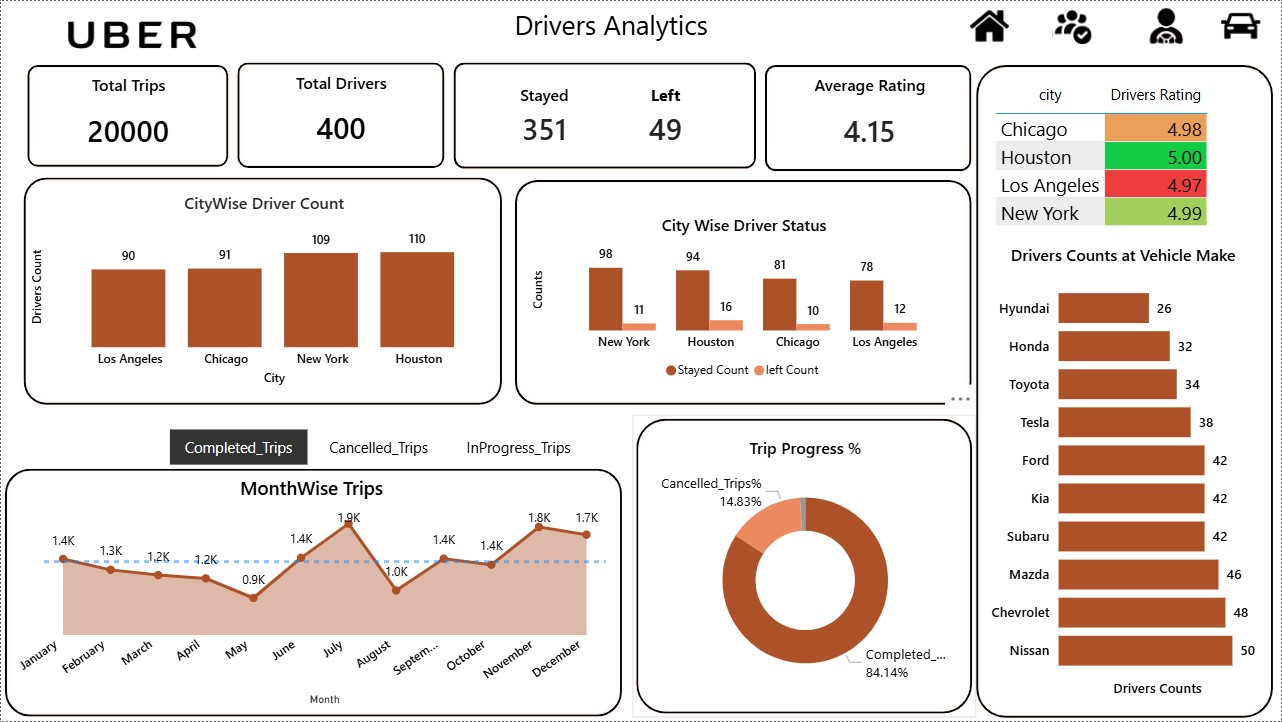

This screenshot's page, from the dashboard's own definition file:
{"tool":"powerbi","page":{"name":"Drivers","canvas":[1280,720],"ordinal":2},"visuals":[{"type":"textbox","box":[214.7,0,790.2,48.3],"z":0},{"type":"actionButton","box":[951.7,1.4,74.3,47.3],"z":0,"group":"g13"},{"type":"shape","box":[232.7,57.9,214.7,113.4],"z":0,"group":"g4"},{"type":"group","id":"g1","title":"Group 2","box":[449.7,57.9,310.3,114.1],"z":0,"group":"g5"},{"type":"shape","box":[449.7,57.9,310.3,114.1],"z":0,"group":"g1"},{"type":"shape","box":[22.9,60.7,208.7,109.8],"z":0,"group":"g7"},{"type":"group","id":"g2","title":"Group 2","box":[760,60.7,214.3,114.1],"z":0,"group":"g6"},{"type":"shape","box":[760,60.7,214.3,114.1],"z":0,"group":"g2"},{"type":"cardVisual","title":"Drivers Stayed &left","fields":{"Data":["cancellations.driver_Stayed_Count","cancellations.driver_Stayed_left"]},"box":[470.6,70.1,269.9,89.6],"z":0,"group":"g20"},{"type":"cardVisual","title":"Total Drivers","fields":{"Data":["riders.Total_Drivers"]},"box":[245.2,70.4,190.6,87.7],"z":0,"group":"g19"},{"type":"cardVisual","title":"Average Rating","fields":{"Data":["cancellations.Avgrage_Rating"]},"box":[774.4,73.2,187.8,89],"z":0,"group":"g21"},{"type":"actionButton","box":[1034.1,0,74.3,47.3],"z":1000,"group":"g13"},{"type":"group","id":"g3","title":"Group 6","box":[22.9,57.9,951.9,117],"z":1000},{"type":"group","id":"g4","title":"Group 2","box":[232.7,57.9,214.7,113.4],"z":1000,"group":"g19"},{"type":"group","id":"g5","title":"Group 3","box":[449.7,57.9,310.3,114.1],"z":1000,"group":"g20"},{"type":"group","id":"g6","title":"Group 3","box":[760,60.7,214.3,114.1],"z":1000,"group":"g21"},{"type":"cardVisual","title":"Total Trips","fields":{"Data":["cancellations.Total_Trips"]},"box":[44,73.5,167.7,88.8],"z":1000,"group":"g7"},{"type":"actionButton","box":[1129.2,1.2,72.9,47.5],"z":2000,"group":"g13"},{"type":"group","id":"g7","title":"Group 2","box":[22.9,60.7,208.7,109.8],"z":2000,"group":"g3"},{"type":"group","id":"g8","title":"Group 7","box":[19.3,172.5,486.2,235.3],"z":2000},{"type":"actionButton","box":[1202.4,1.4,74.3,47.3],"z":3000,"group":"g13"},{"type":"group","id":"g9","title":"Group 8","box":[510.3,174.9,464.5,232.8],"z":3000},{"type":"clusteredBarChart","title":"Drivers Counts at Vehicle Make","fields":{"Category":["drivers.vehicle_make"],"Y":["riders.Total_Drivers"]},"box":[983.7,242.6,276.9,457.7],"z":3000,"group":"g12"},{"type":"group","id":"g10","title":"Group 9","box":[631,414.2,343.8,302.8],"z":4000},{"type":"donutChart","title":"Trip Progress %","fields":{"Y":["cancellations.Completed_Trips%","cancellations.Cancelled_Trips%","cancellations.Inprogress%"]},"box":[654,434.8,301.4,267.7],"z":4000,"group":"g15"},{"type":"tableEx","fields":{"Values":["users.city","cancellations.Top_Drivers1"]},"box":[989,76.5,279.7,165.6],"z":5000,"group":"g18"},{"type":"group","id":"g11","title":"Group 11","box":[0,463.3,624.9,255.8],"z":5000},{"type":"group","id":"g12","title":"Group 13","box":[971.2,60.3,304.7,660.9],"z":6000},{"type":"slicer","fields":{"Values":["parameter.parameter"]},"box":[142.4,421,468.1,49.5],"z":7000},{"type":"group","id":"g13","title":"Group 1","box":[951.7,0,325.6,48.7],"z":8000},{"type":"group","id":"g14","title":"Group 7","box":[631,414.2,343.8,302.8],"z":8001,"group":"g15"},{"type":"group","id":"g15","title":"Group 10","box":[631,414.2,343.8,302.8],"z":8003,"group":"g10"},{"type":"group","id":"g16","title":"Group 7","box":[0,463.3,624.9,255.8],"z":8003,"group":"g11"},{"type":"group","id":"g17","title":"Group 7","box":[971.2,60.3,304.7,660.9],"z":8005,"group":"g18"},{"type":"group","id":"g18","title":"Group 12","box":[971.2,60.3,304.7,660.9],"z":8006,"group":"g12"},{"type":"lineChart","title":"MonthWise Trips","fields":{"Y":["cancellations.Completed_Trips"],"Category":["drivers.join_date.Variation.Date Hierarchy.Month"]},"box":[11.1,473.2,598.5,236.3],"z":8503,"group":"g11"},{"type":"image","box":[11.1,1.4,240.7,65.4],"z":9000},{"type":"group","id":"g19","title":"Group 3","box":[232.7,57.9,214.7,113.4],"z":9000,"group":"g3"},{"type":"shape","box":[971.2,60.3,304.7,660.9],"z":9500,"group":"g17"},{"type":"shape","box":[19.3,172.5,486.2,235.3],"z":9500,"group":"g8"},{"type":"shape","box":[510.3,174.9,464.5,232.8],"z":9500,"group":"g9"},{"type":"shape","box":[631,414.2,343.8,302.8],"z":9500,"group":"g14"},{"type":"shape","box":[0,463.3,624.9,255.8],"z":9500,"group":"g16"},{"type":"group","id":"g20","title":"Group 4","box":[449.7,57.9,310.3,114.1],"z":10000,"group":"g3"},{"type":"clusteredColumnChart","title":"CityWise Driver Count","fields":{"Y":["riders.City_Drivers"],"Category":["users.city"]},"box":[26.2,190.4,473.8,199.4],"z":10000,"group":"g8"},{"type":"clusteredColumnChart","title":"City Wise Driver Status","fields":{"Y":["cancellations.City_driver_Stayed_Count","cancellations.citydriver_Stayed_left"],"Category":["users.city"]},"box":[527.5,212.3,431.1,175.2],"z":10000,"group":"g9"},{"type":"group","id":"g21","title":"Group 5","box":[760,60.7,214.3,114.1],"z":11000,"group":"g3"}]}

Visuals, with their boxes in screenshot pixels (x1, y1, x2, y2), scaled from the page's 1280x720 canvas onto the 1282x722 screenshot:
textbox: box(215, 0, 1006, 48)
actionButton: box(953, 1, 1028, 49)
shape: box(233, 58, 448, 172)
"Group 2" group: box(450, 58, 761, 172)
shape: box(450, 58, 761, 172)
shape: box(23, 61, 232, 171)
"Group 2" group: box(761, 61, 976, 175)
shape: box(761, 61, 976, 175)
"Drivers Stayed &left" cardVisual: box(471, 70, 742, 160)
"Total Drivers" cardVisual: box(246, 71, 436, 159)
"Average Rating" cardVisual: box(776, 73, 964, 163)
actionButton: box(1036, 0, 1110, 47)
"Group 6" group: box(23, 58, 976, 175)
"Group 2" group: box(233, 58, 448, 172)
"Group 3" group: box(450, 58, 761, 172)
"Group 3" group: box(761, 61, 976, 175)
"Total Trips" cardVisual: box(44, 74, 212, 163)
actionButton: box(1131, 1, 1204, 49)
"Group 2" group: box(23, 61, 232, 171)
"Group 7" group: box(19, 173, 506, 409)
actionButton: box(1204, 1, 1279, 49)
"Group 8" group: box(511, 175, 976, 409)
"Drivers Counts at Vehicle Make" clusteredBarChart: box(985, 243, 1263, 702)
"Group 9" group: box(632, 415, 976, 719)
"Trip Progress %" donutChart: box(655, 436, 957, 704)
tableEx - users.city x cancellations.Top_Drivers1: box(991, 77, 1271, 243)
"Group 11" group: box(0, 465, 626, 721)
"Group 13" group: box(973, 60, 1278, 721)
slicer - parameter.parameter: box(143, 422, 611, 472)
"Group 1" group: box(953, 0, 1279, 49)
"Group 7" group: box(632, 415, 976, 719)
"Group 10" group: box(632, 415, 976, 719)
"Group 7" group: box(0, 465, 626, 721)
"Group 7" group: box(973, 60, 1278, 721)
"Group 12" group: box(973, 60, 1278, 721)
"MonthWise Trips" lineChart: box(11, 475, 611, 711)
image: box(11, 1, 252, 67)
"Group 3" group: box(233, 58, 448, 172)
shape: box(973, 60, 1278, 721)
shape: box(19, 173, 506, 409)
shape: box(511, 175, 976, 409)
shape: box(632, 415, 976, 719)
shape: box(0, 465, 626, 721)
"Group 4" group: box(450, 58, 761, 172)
"CityWise Driver Count" clusteredColumnChart: box(26, 191, 501, 391)
"City Wise Driver Status" clusteredColumnChart: box(528, 213, 960, 389)
"Group 5" group: box(761, 61, 976, 175)
